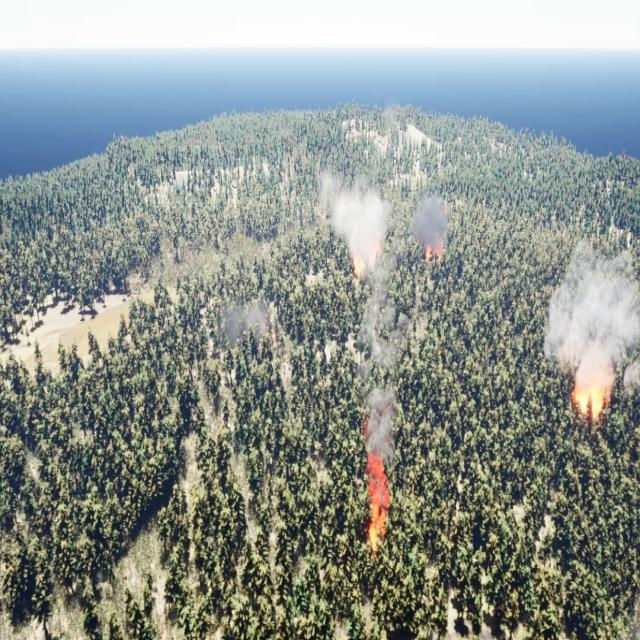fire: (367, 459, 391, 555), (570, 385, 620, 418), (425, 239, 442, 260)
smoke: (318, 163, 399, 454), (542, 246, 639, 400), (223, 294, 274, 341), (414, 193, 446, 265)
